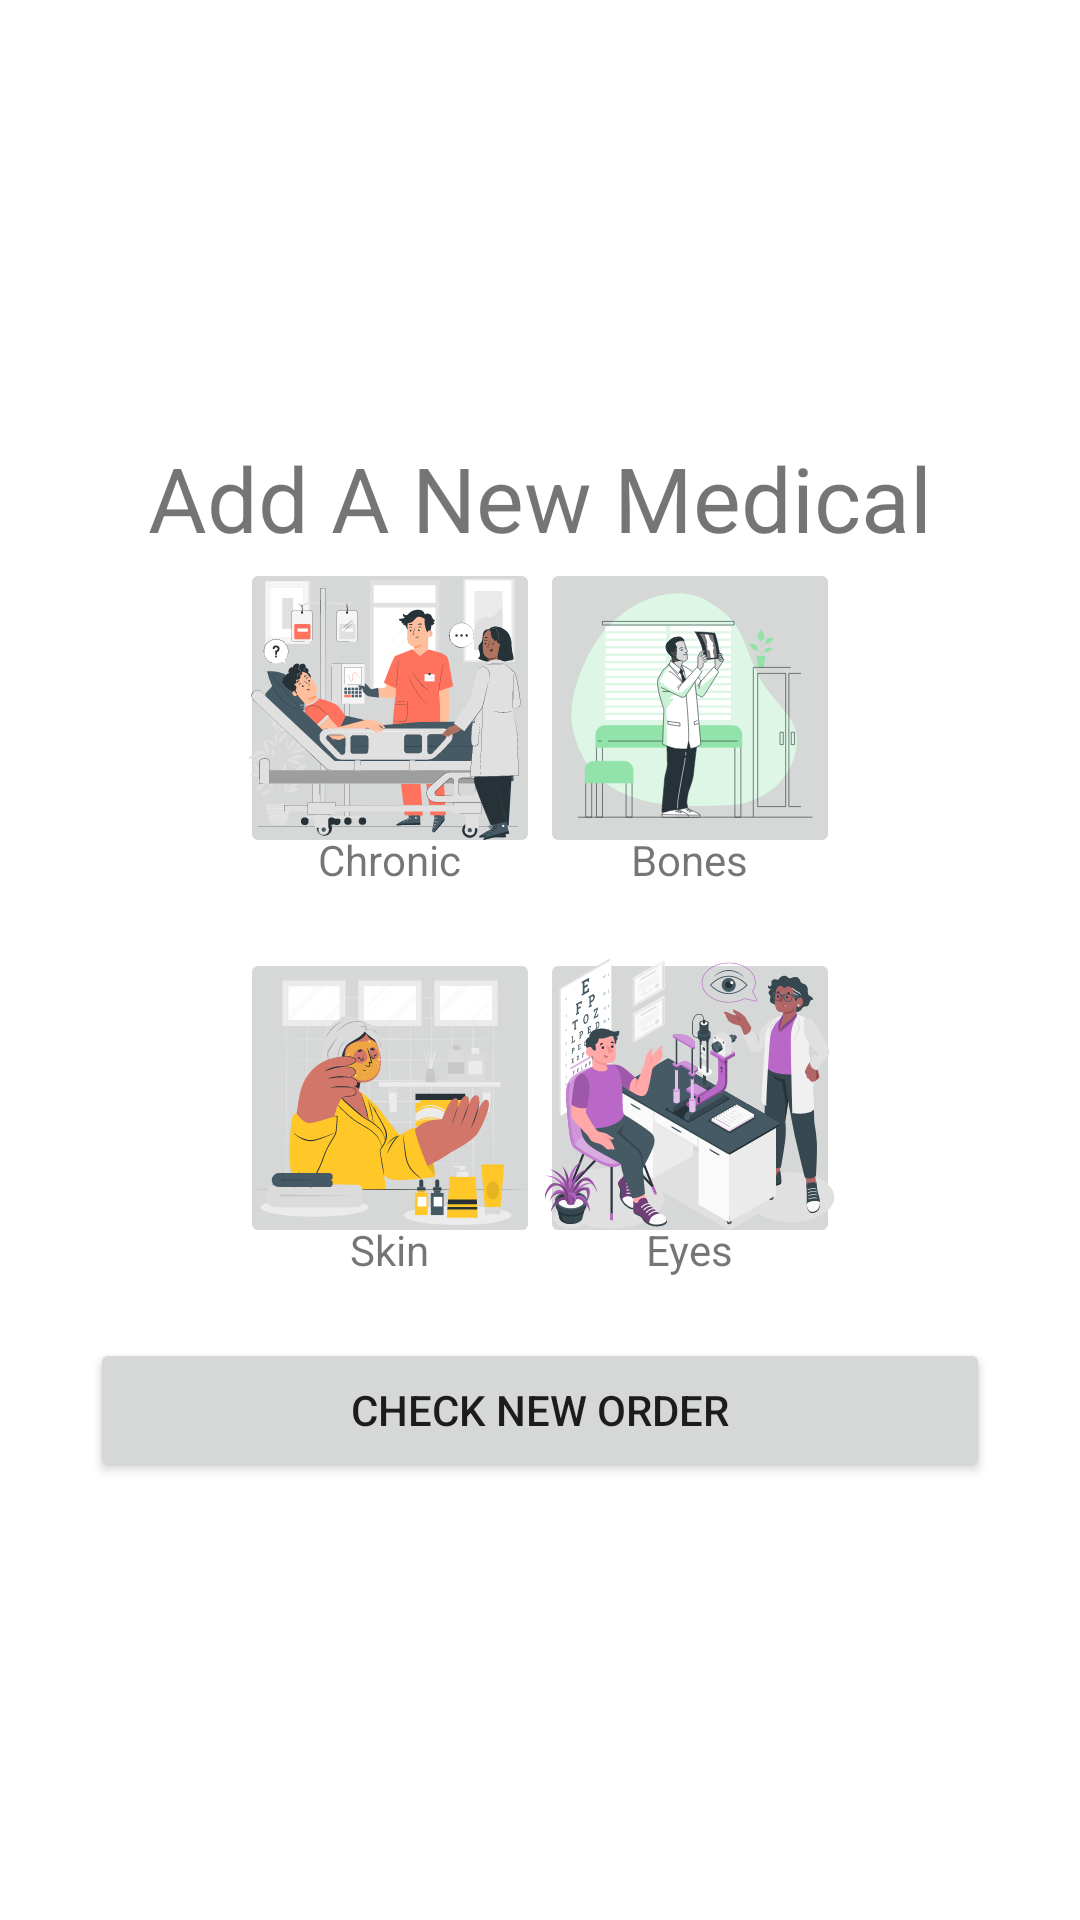

Screen size 1080 × 1920. Icon name, then its box in pixels as (x1,y1,x2,y2):
hospital bed pana: (249,576,528,850)
